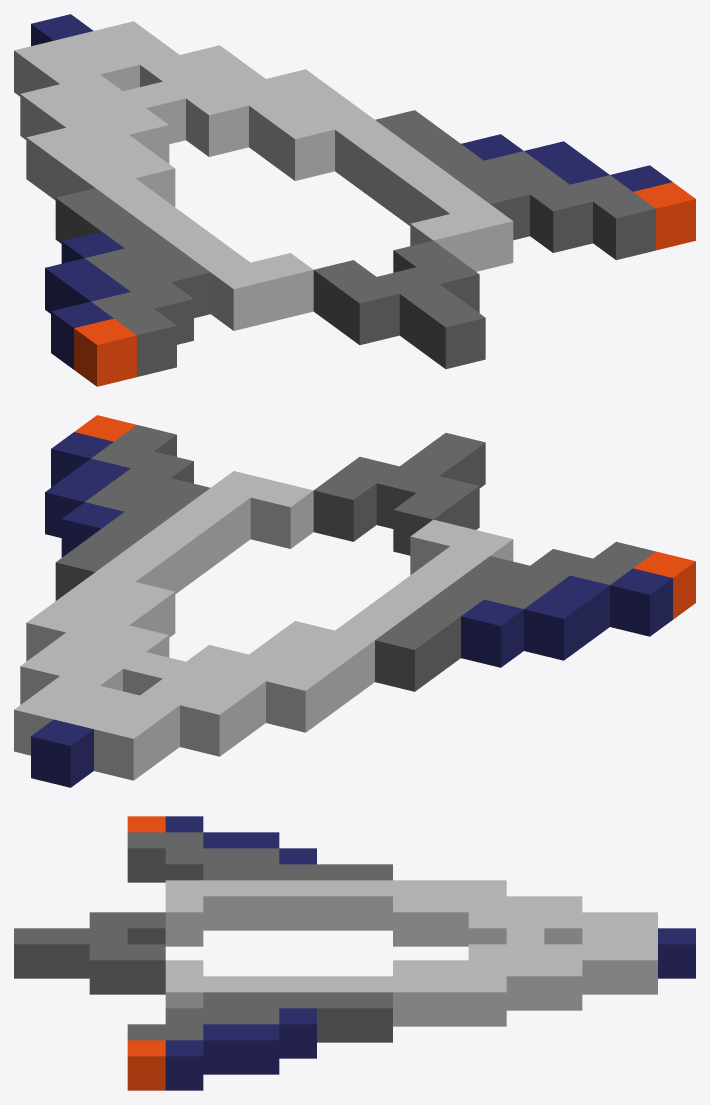
The model's file is speeder_level_1.glb.
The picture shows the model from 3 angles, top to bottom: view 1: azimuth 30°, elevation 25°; view 2: azimuth 150°, elevation 25°; view 3: azimuth 270°, elevation 25°; orthographic projection. The views are drawn at different scales.
Bounding box in the file's own units: 15 × 1 × 18.
